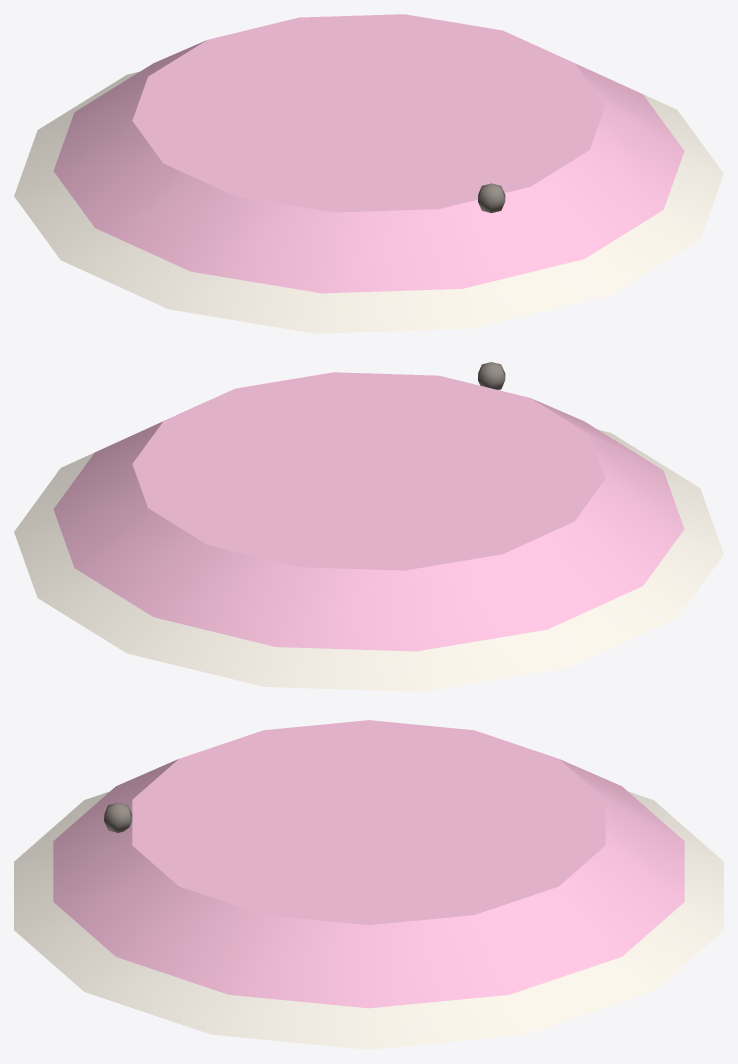
Rendered from outfit_tutu.glb.
3 views of the same model, one above another, from view 1: azimuth 30°, elevation 25°; view 2: azimuth 150°, elevation 25°; view 3: azimuth 270°, elevation 25° (orthographic). The views are drawn at different scales.
Visible parts, largest first — view 1: outfit_tutu; view 2: outfit_tutu; view 3: outfit_tutu.
Boxes of the visible parts, box(x1,y1,x2,y2) form: outfit_tutu: box(14, 14, 723, 333); outfit_tutu: box(14, 362, 723, 691); outfit_tutu: box(14, 720, 723, 1049).
Bounding box in the file's own units: 54 × 7.6 × 52.65.
